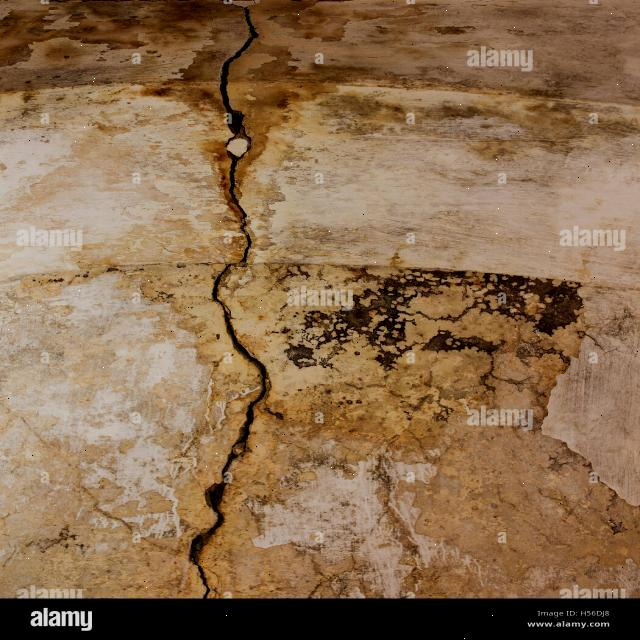crack: (187, 2, 271, 597)
dampens: (285, 252, 640, 586)
